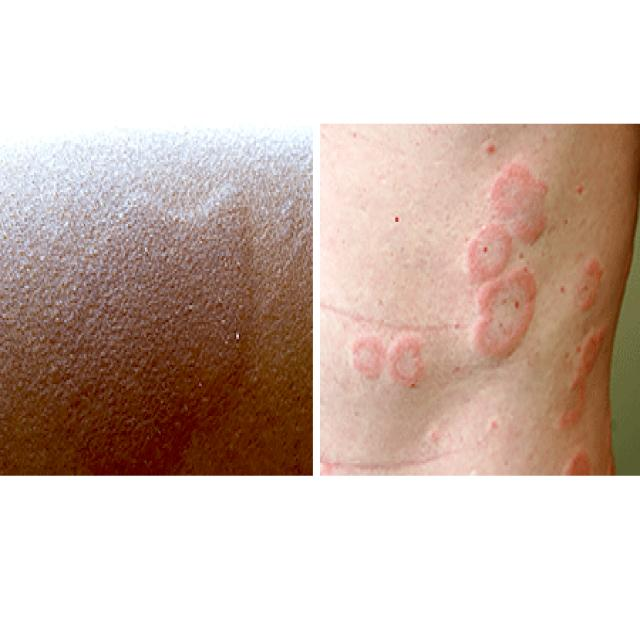hives: (352, 133, 634, 490), (57, 147, 288, 470)
